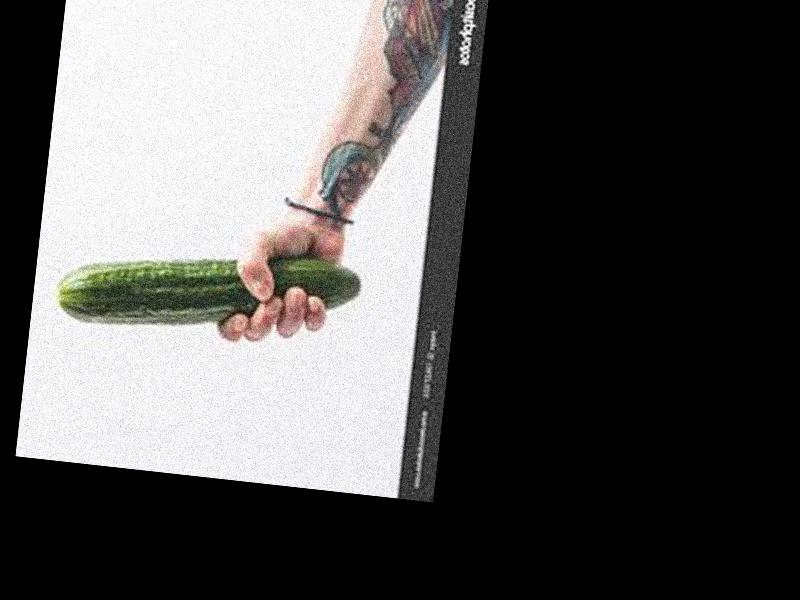Cucumber: (50, 232, 360, 352)
